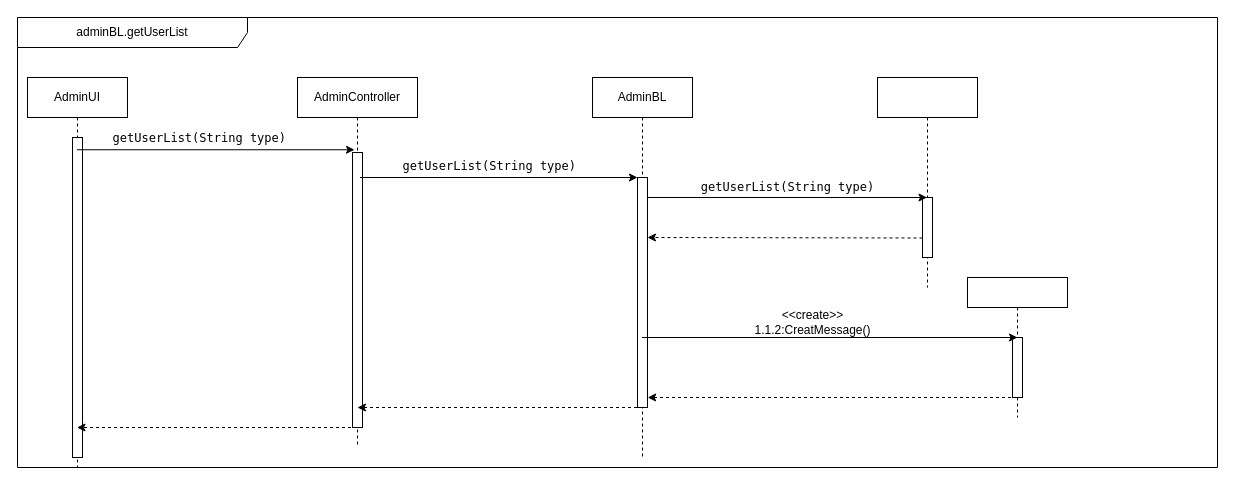
Some shapes in this 1235 by 485 pixel diagram are drawn without their labels. Each missing label, with the centre of its shape:
"AdminMapper" belongs at (927,182).
"ResponseVO" belongs at (1017,347).
